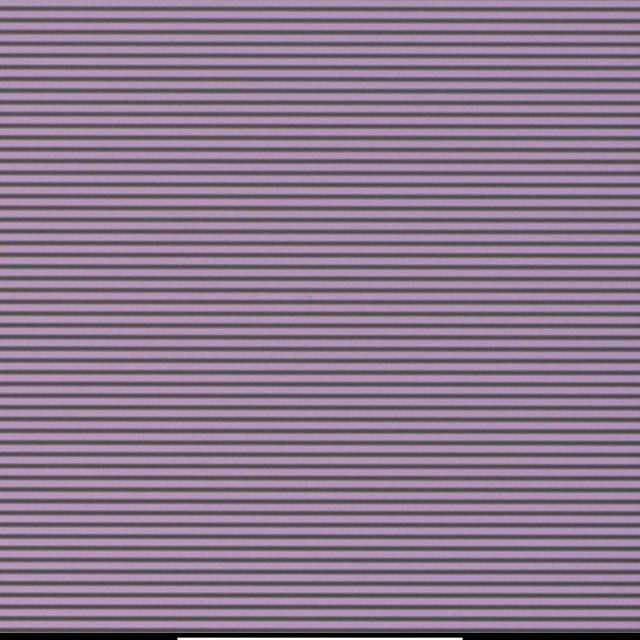nonvisual: (303, 292, 316, 302)
